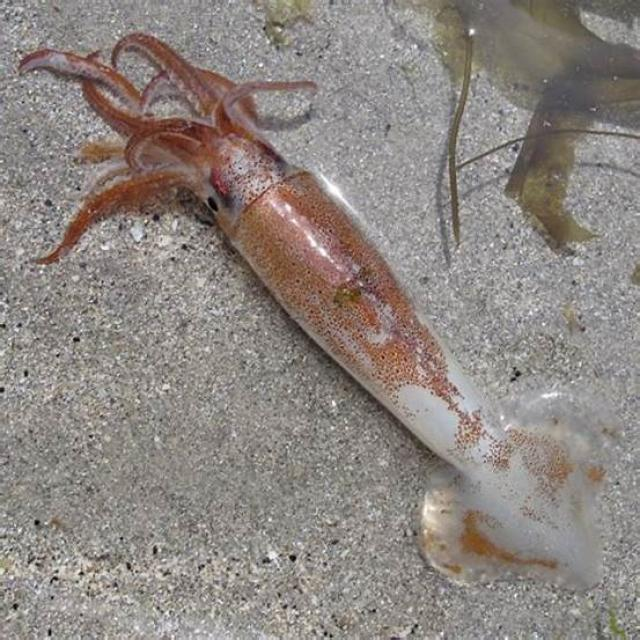SQUID: (11, 15, 640, 610)
